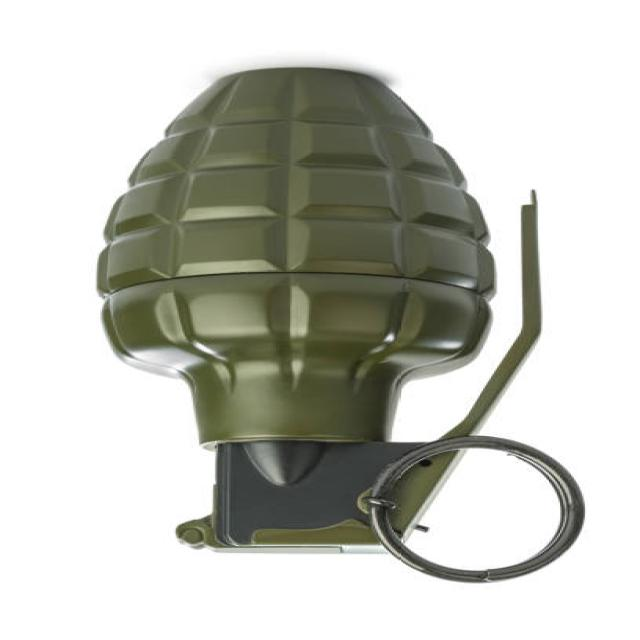grenade: (77, 58, 597, 598)
